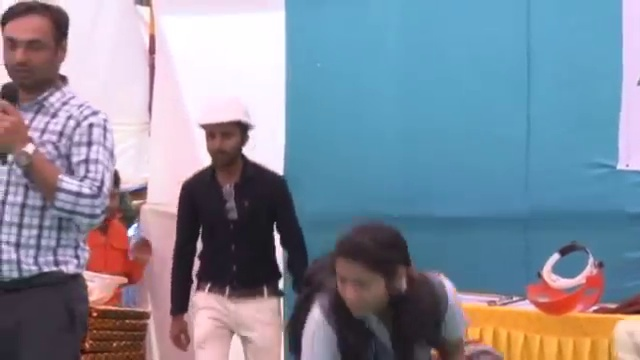helmet: (80, 272, 130, 309)
helmet_off: (331, 222, 421, 322), (0, 3, 74, 92), (104, 186, 142, 224)
helmet_on: (196, 98, 252, 165)
person: (0, 2, 121, 357), (165, 98, 312, 360), (297, 222, 468, 360), (81, 182, 139, 312)
